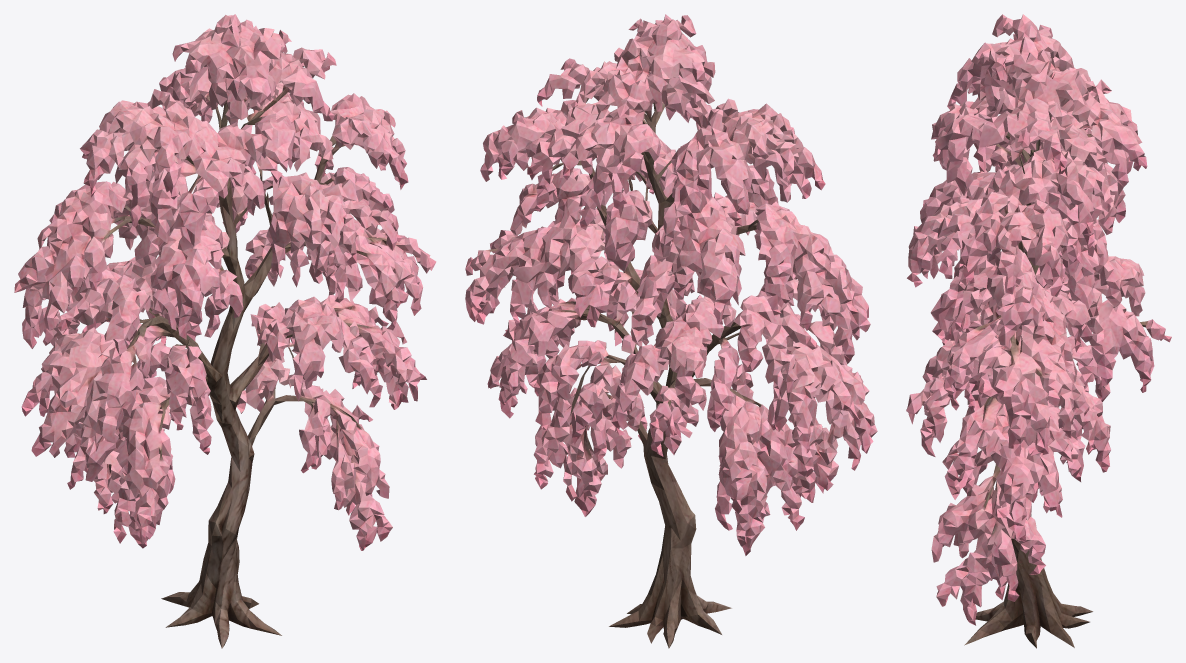
3 renders of one model, left to right at view 1: azimuth 30°, elevation 25°; view 2: azimuth 150°, elevation 25°; view 3: azimuth 270°, elevation 25°, orthographic. The views are drawn at different scales.
Parts seen in each view (by area): view 1: model; view 2: model; view 3: model.
Boxes of the visible parts, left/top/right/bottom form: model: left=14, top=14, right=436, bottom=648; model: left=465, top=14, right=877, bottom=648; model: left=906, top=14, right=1171, bottom=648.
Size of the model in its own units: 1.29 by 1.9 by 0.74.
1 material, 1 textured.
